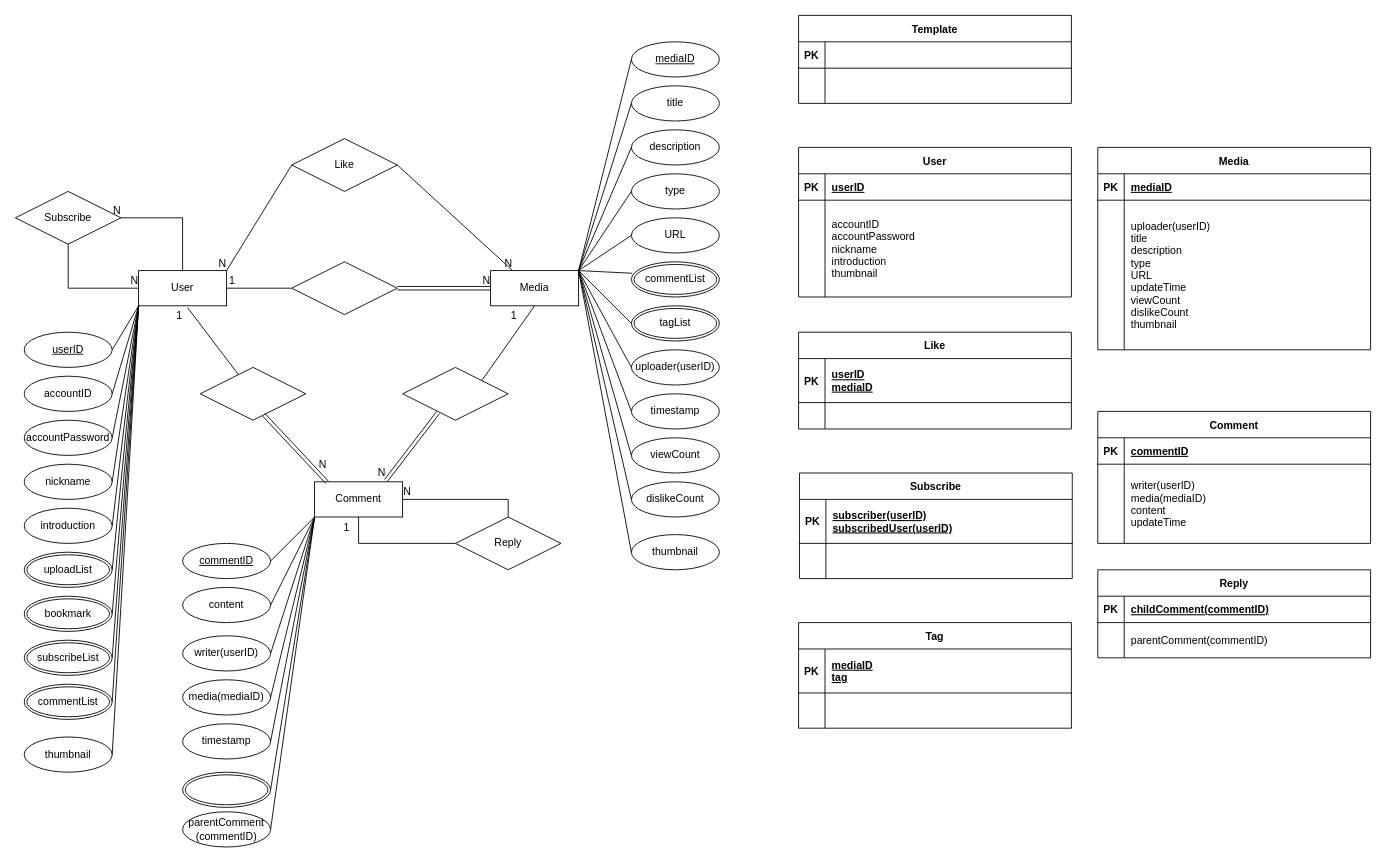
The diagram is 1386 pixels wide and 862 high, and some of its shapes have lost their labels. Each missing label, with the centre of its shape:
MediaComment: point (455, 393)
replyList: point (226, 789)
Upload: point (344, 288)
UserComment: point (252, 393)
